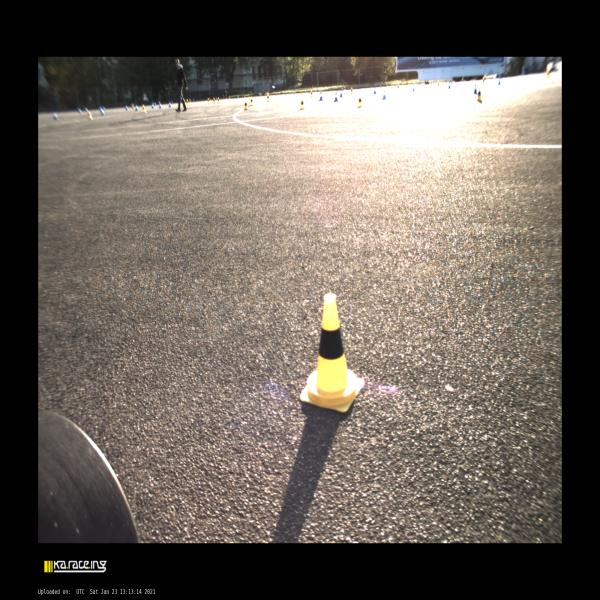blue_cone: (334, 91, 338, 102), (319, 91, 323, 100), (54, 112, 58, 120), (474, 84, 477, 94), (383, 90, 386, 100), (340, 88, 343, 98), (412, 82, 415, 92), (101, 108, 105, 115), (498, 76, 501, 85), (78, 108, 82, 114), (159, 102, 162, 108), (374, 86, 376, 94), (448, 80, 450, 88), (85, 107, 88, 112), (136, 104, 138, 111), (169, 101, 171, 107), (100, 106, 102, 112), (103, 107, 106, 111), (126, 105, 128, 110), (152, 103, 154, 108), (260, 92, 262, 97), (154, 102, 156, 105), (237, 95, 239, 98), (193, 99, 194, 102), (216, 97, 217, 100), (276, 93, 277, 96), (294, 91, 295, 94), (310, 90, 311, 93), (342, 88, 343, 91), (380, 84, 381, 87), (286, 91, 286, 95)
yellow_cone: (300, 293, 364, 412), (476, 89, 482, 102), (299, 98, 305, 111), (88, 110, 93, 120), (358, 96, 362, 108), (142, 104, 147, 113), (250, 96, 254, 106), (266, 93, 270, 102), (244, 100, 247, 110), (547, 71, 550, 79), (310, 90, 313, 97), (132, 103, 135, 109), (397, 83, 399, 91), (482, 76, 484, 84), (351, 87, 353, 95), (186, 99, 188, 106), (213, 97, 215, 104), (437, 80, 439, 87), (189, 98, 191, 104), (218, 97, 220, 103), (259, 93, 261, 98), (264, 93, 266, 98), (344, 86, 346, 91), (208, 98, 209, 104), (209, 97, 210, 102), (229, 96, 230, 100), (386, 83, 387, 87)
